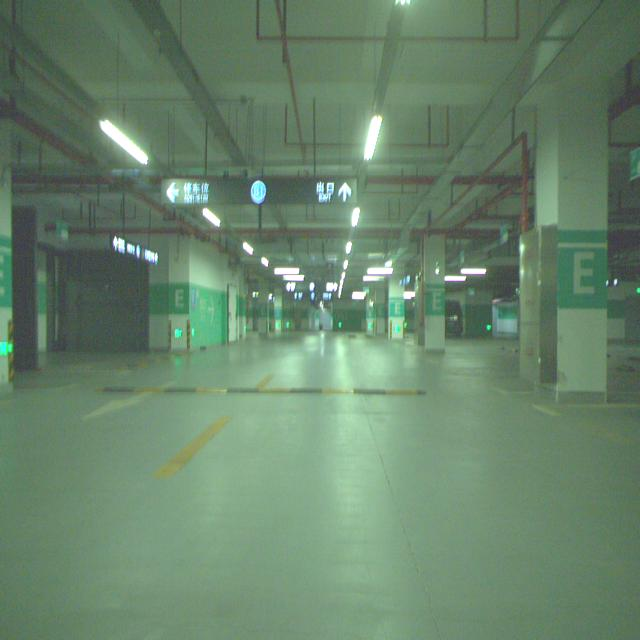pillar: (536, 81, 608, 398)
